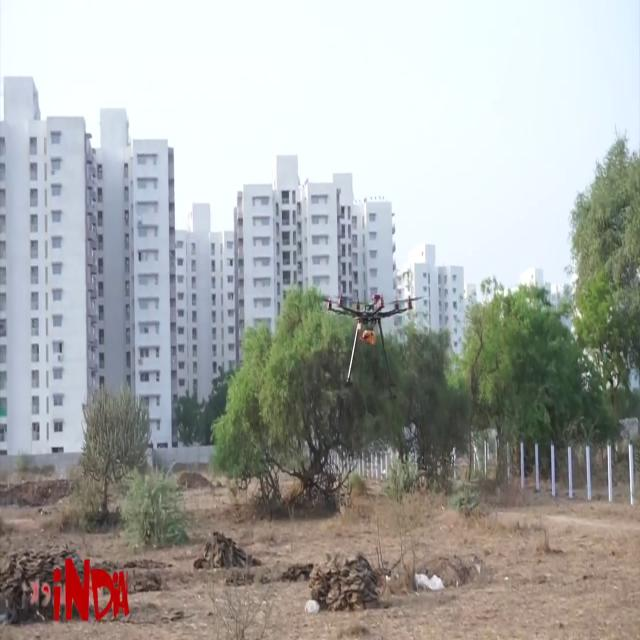drone: (314, 273, 416, 371)
